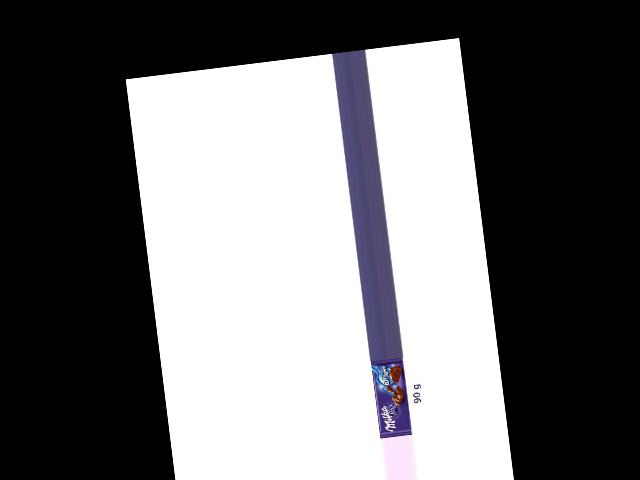chocolate: (370, 356, 411, 437)
